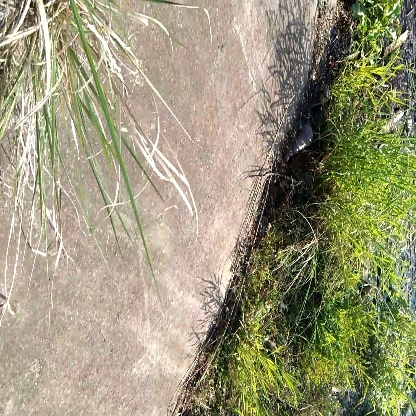grass: (345, 139, 405, 261)
